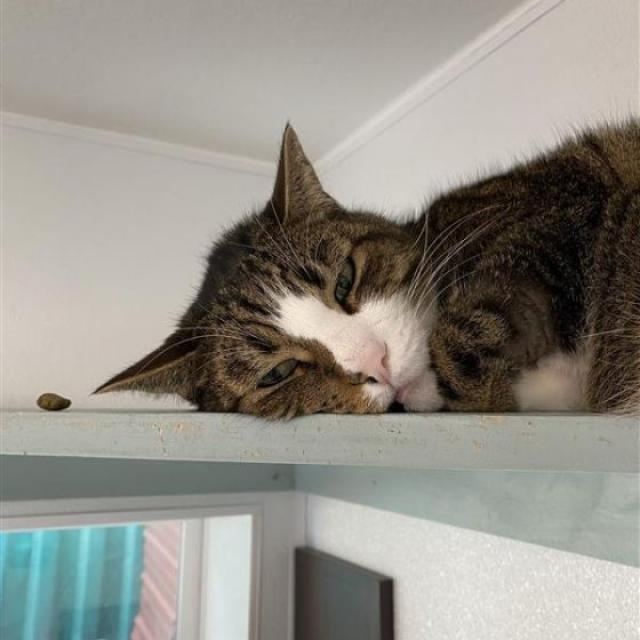american_shorthair_cat: (82, 112, 495, 429)
